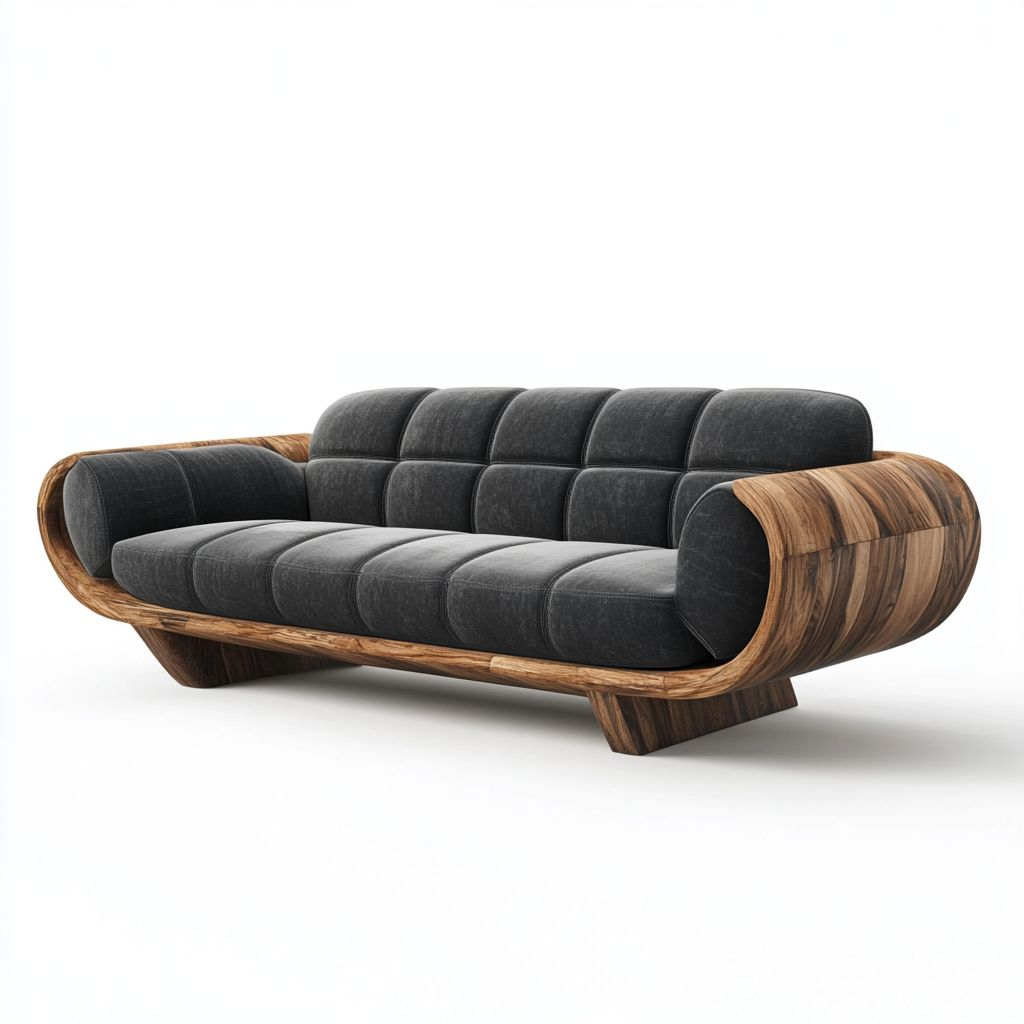3seatersofa: (39, 389, 980, 754)
backrest: (305, 388, 869, 546)
base: (38, 452, 980, 699)
leftarmrest: (676, 483, 769, 658)
leg: (589, 679, 796, 754), (136, 626, 333, 686)
rightarmrest: (63, 445, 307, 578)
seat: (113, 520, 707, 668)
